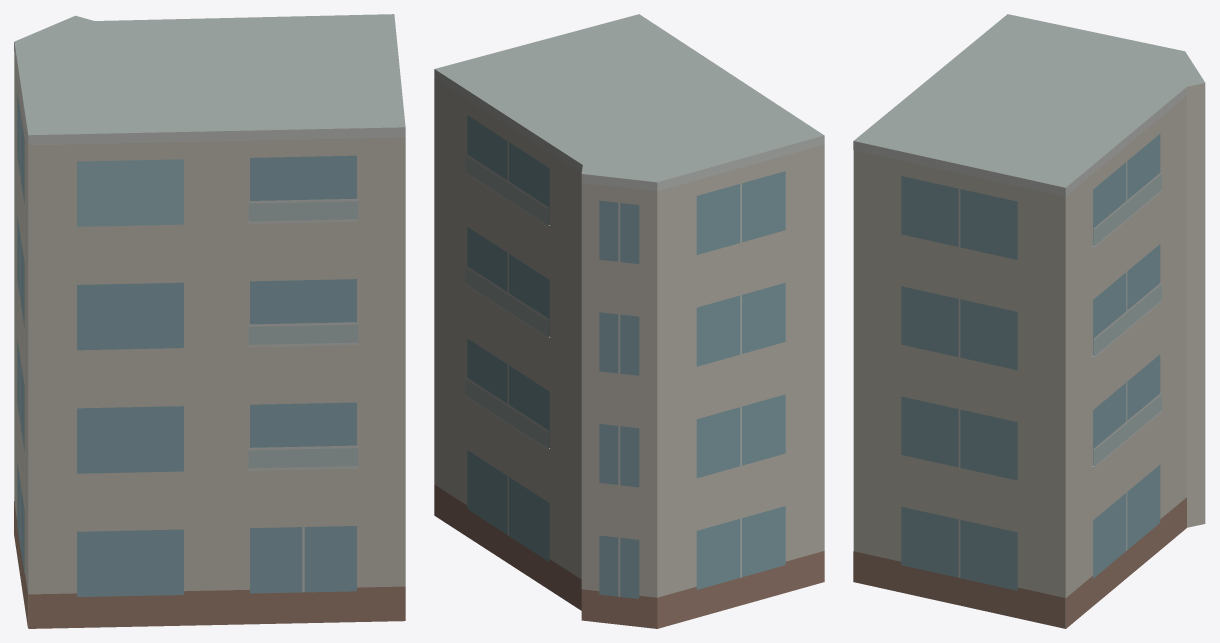
The model's file is survey-upis-32734747.glb.
3 views of the same model, side by side, from view 1: azimuth 30°, elevation 25°; view 2: azimuth 150°, elevation 25°; view 3: azimuth 270°, elevation 25° (orthographic). The views are drawn at different scales.
Visible parts, largest first — view 1: survey-upis-32734747.tmp; view 2: survey-upis-32734747.tmp; view 3: survey-upis-32734747.tmp.
Boxes of the visible parts, left/top/right/bottom form: survey-upis-32734747.tmp: left=14, top=14, right=405, bottom=628; survey-upis-32734747.tmp: left=434, top=14, right=824, bottom=628; survey-upis-32734747.tmp: left=853, top=14, right=1205, bottom=628.
Bounding box in the file's own units: 10.24 × 12.1 × 8.76.
